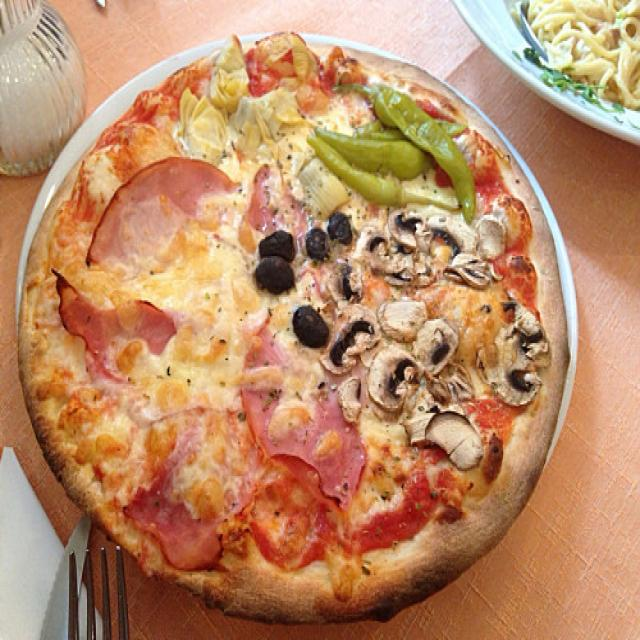Wet Waste: (18, 21, 576, 630)
